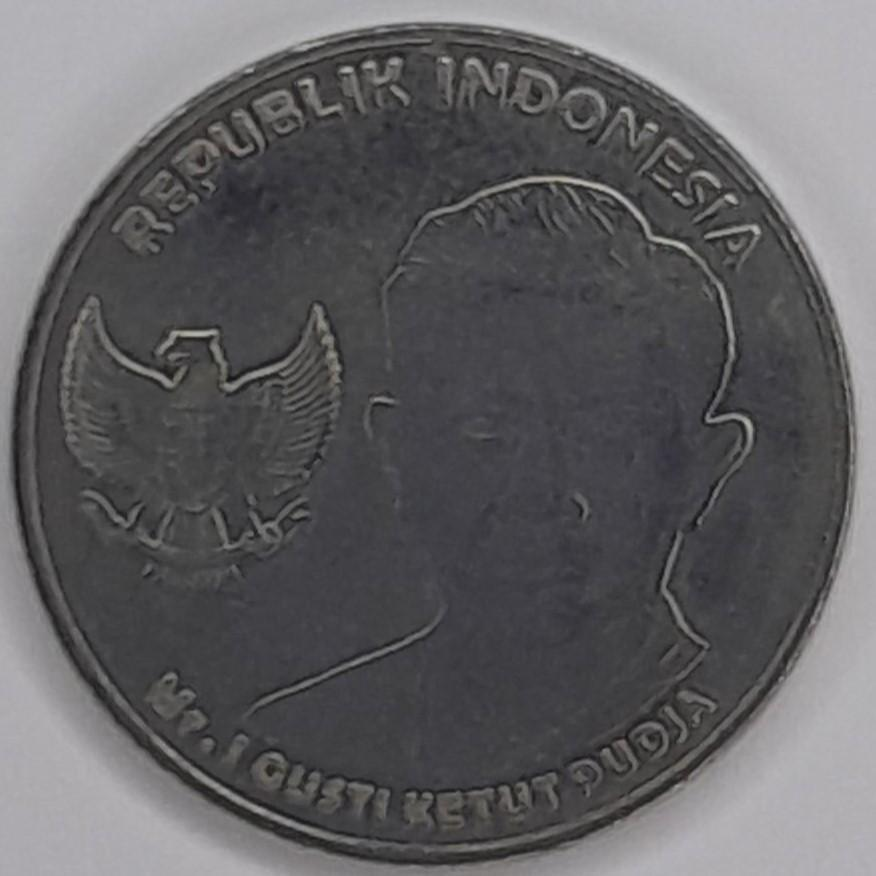coin_1000_e2016: (15, 17, 864, 876)
